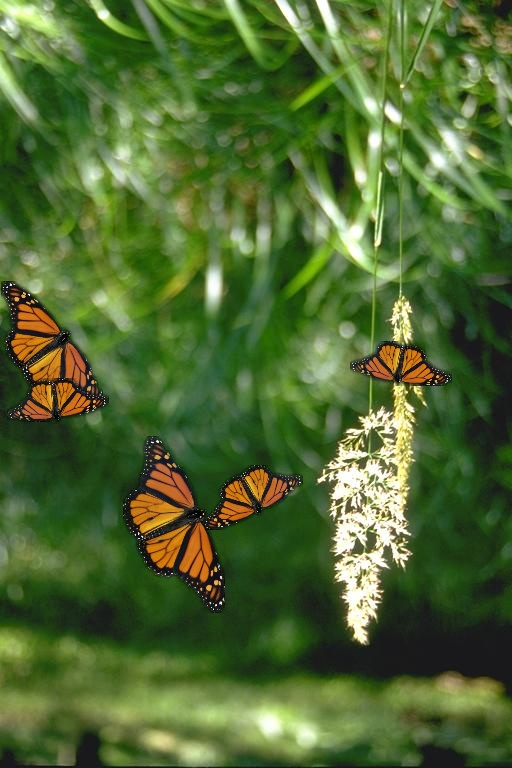danaus_plexippus: (123, 436, 225, 613), (1, 281, 103, 404), (201, 465, 303, 530), (350, 341, 452, 386), (7, 378, 109, 422)
